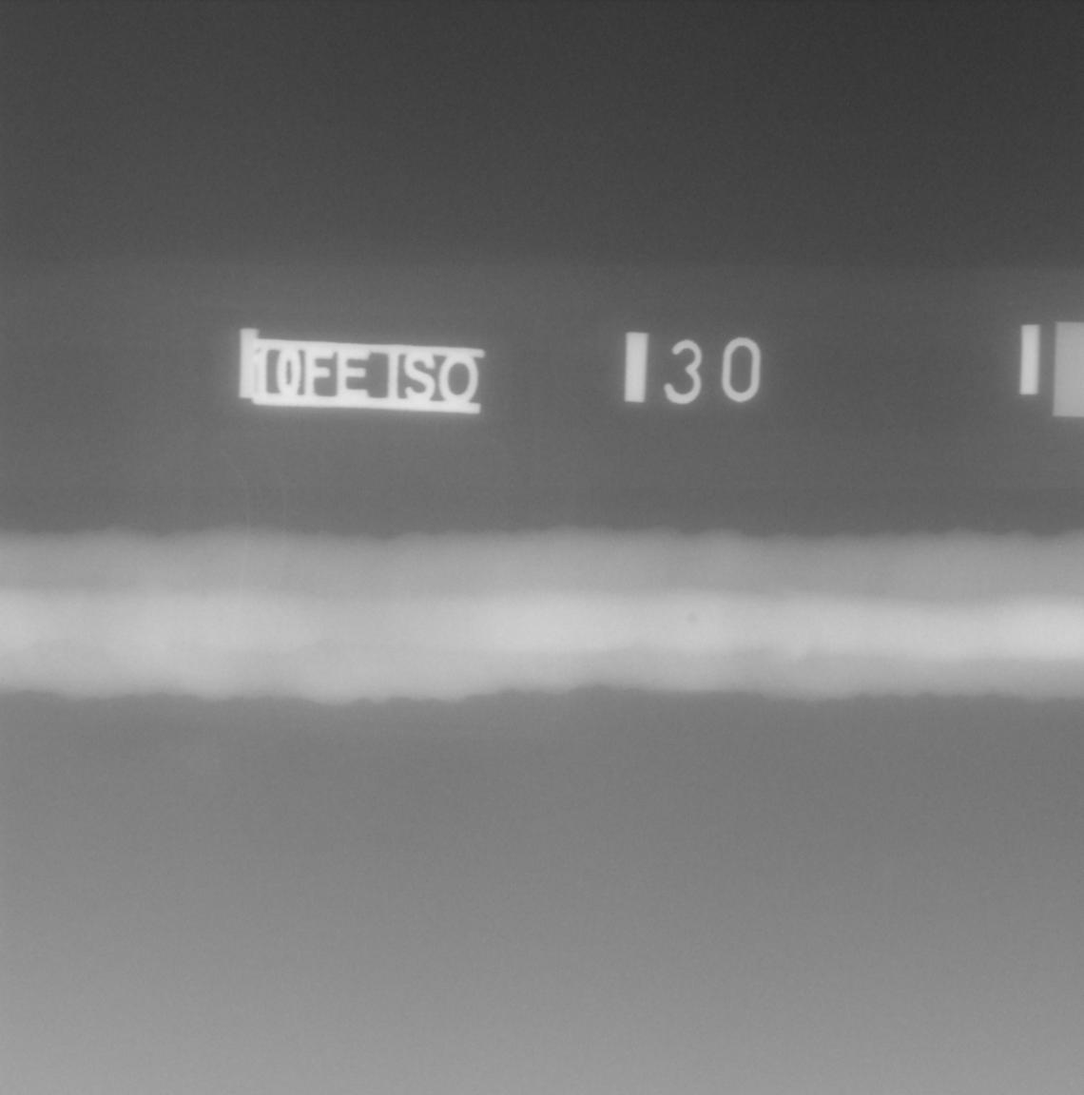Pore/Porosity: (688, 613, 698, 623), (202, 592, 207, 597)
